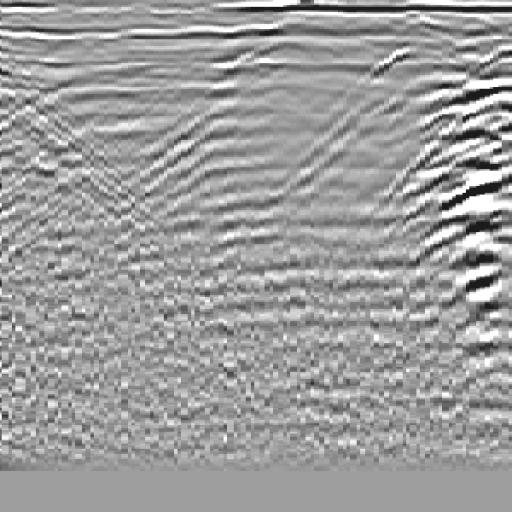metalic: (384, 36, 512, 337)
